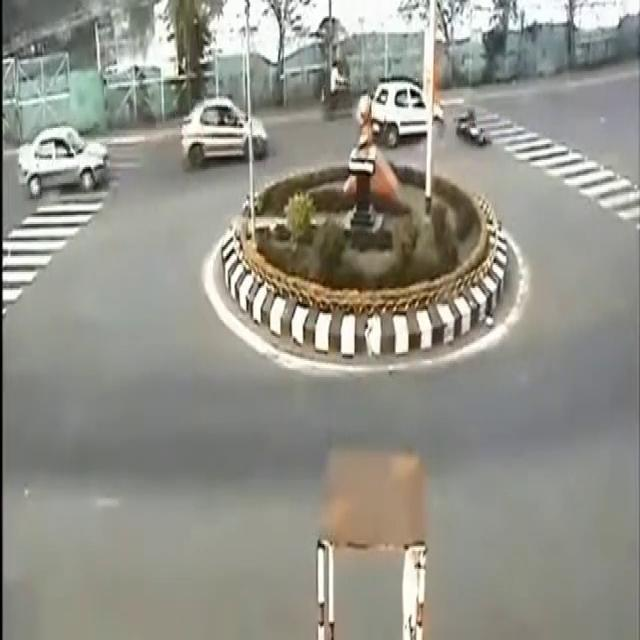accident: (370, 41, 531, 198)
